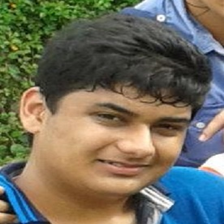no_mask: (46, 85, 182, 197)
